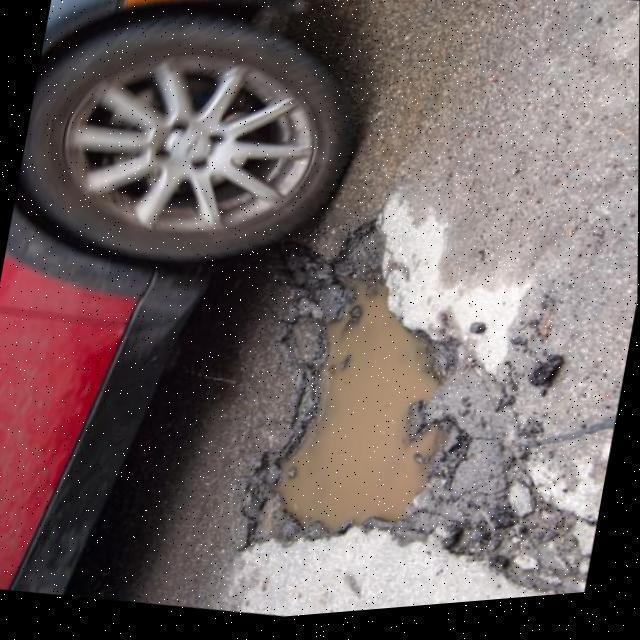Pothole: (280, 288, 441, 535)
